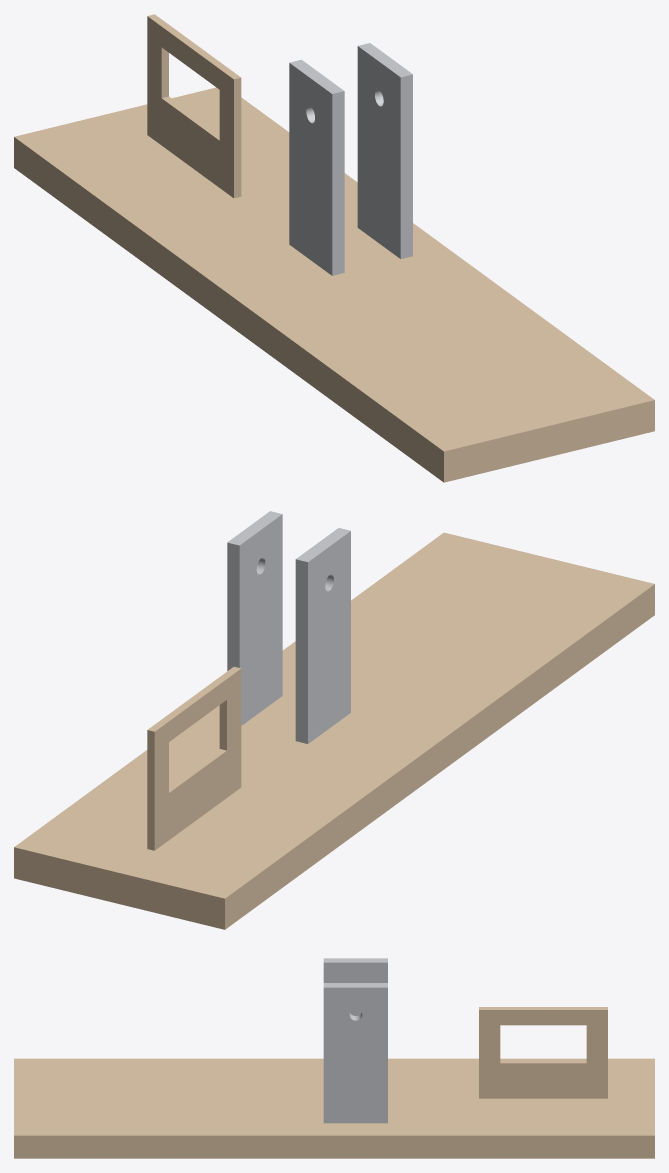
3 renders of one model, top to bottom at view 1: azimuth 30°, elevation 25°; view 2: azimuth 150°, elevation 25°; view 3: azimuth 270°, elevation 25°, orthographic. The views are drawn at different scales.
Parts seen in each view (by area): view 1: ball_on_beam; view 2: ball_on_beam; view 3: ball_on_beam.
Boxes of the visible parts, left/top/right/bottom form: ball_on_beam: left=14, top=14, right=654, bottom=482; ball_on_beam: left=14, top=511, right=654, bottom=929; ball_on_beam: left=14, top=958, right=654, bottom=1158.
Size of the model in its own units: 0.085 by 0.082 by 0.3.
